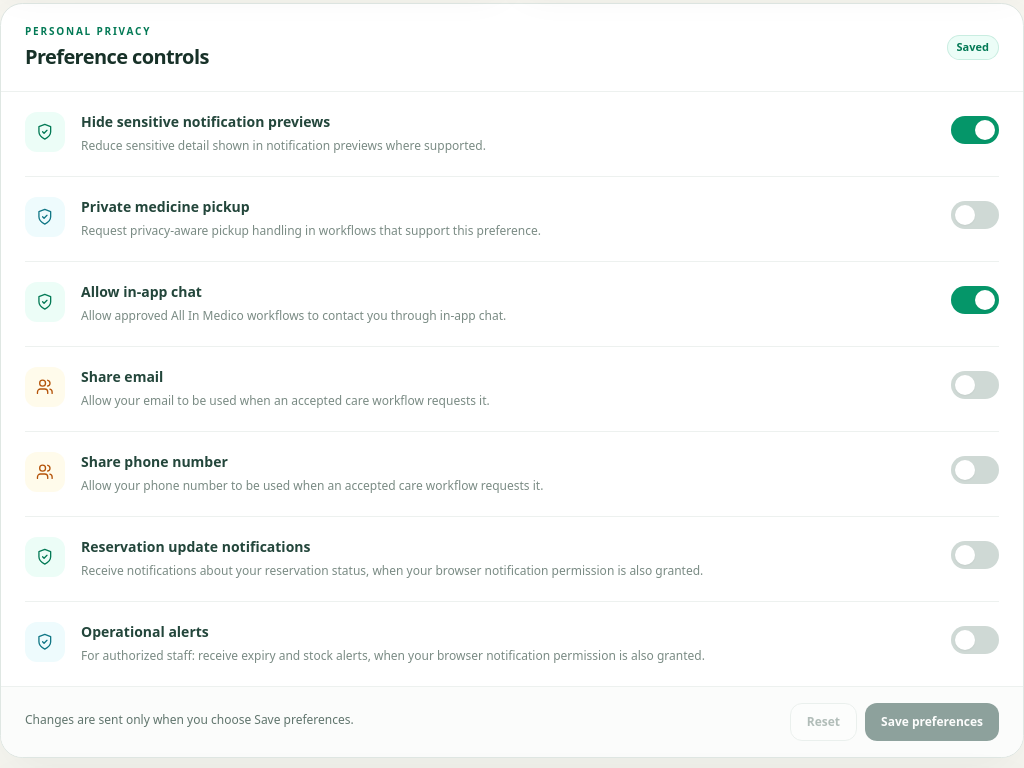
SettingsWorkspace interactions › resets unsaved privacy changes without a mutation
(page scrolled)
Click the switch named "Share email" at (975, 385), box [951,371,999,399]
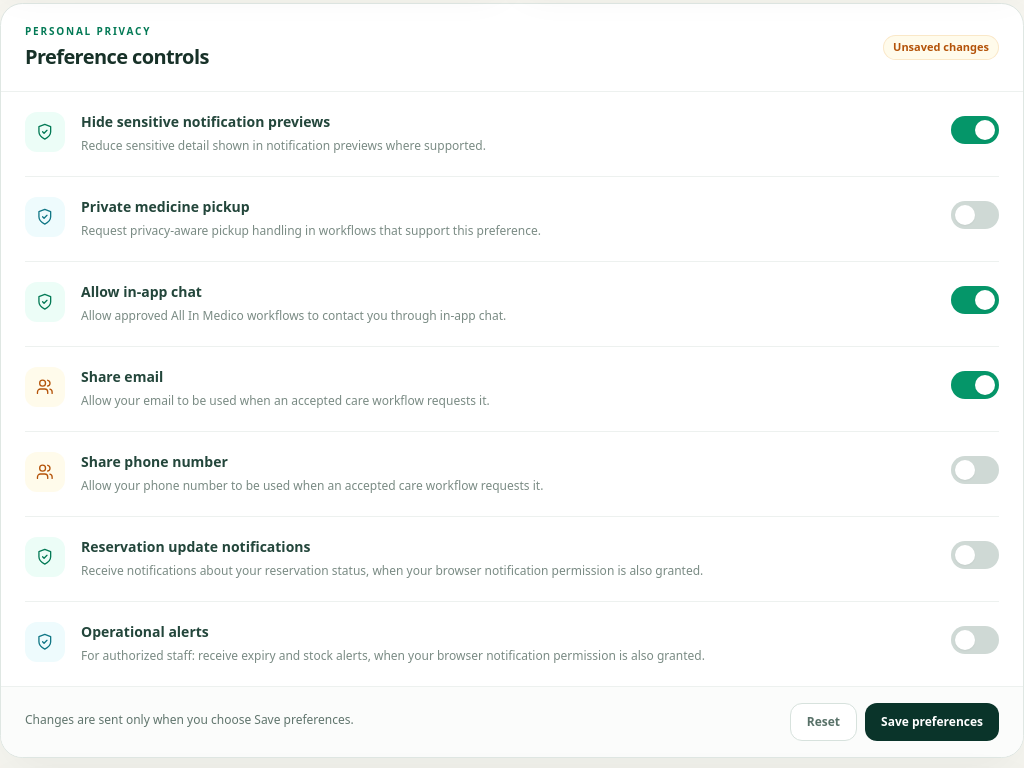
Check: the text "Unsaved changes" is shown, box [883,35,999,60]
Click the button "Reset" at (823, 722), box [790,703,857,741]
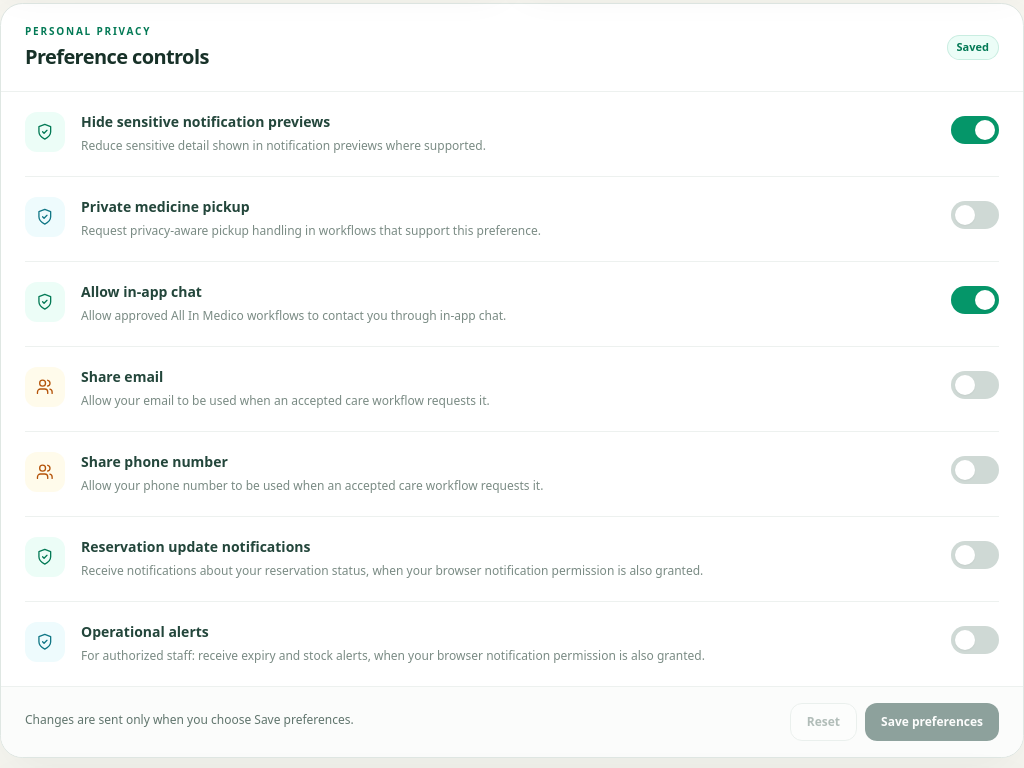
Check: the button "Save preferences" is disabled, box [865,703,999,741]
